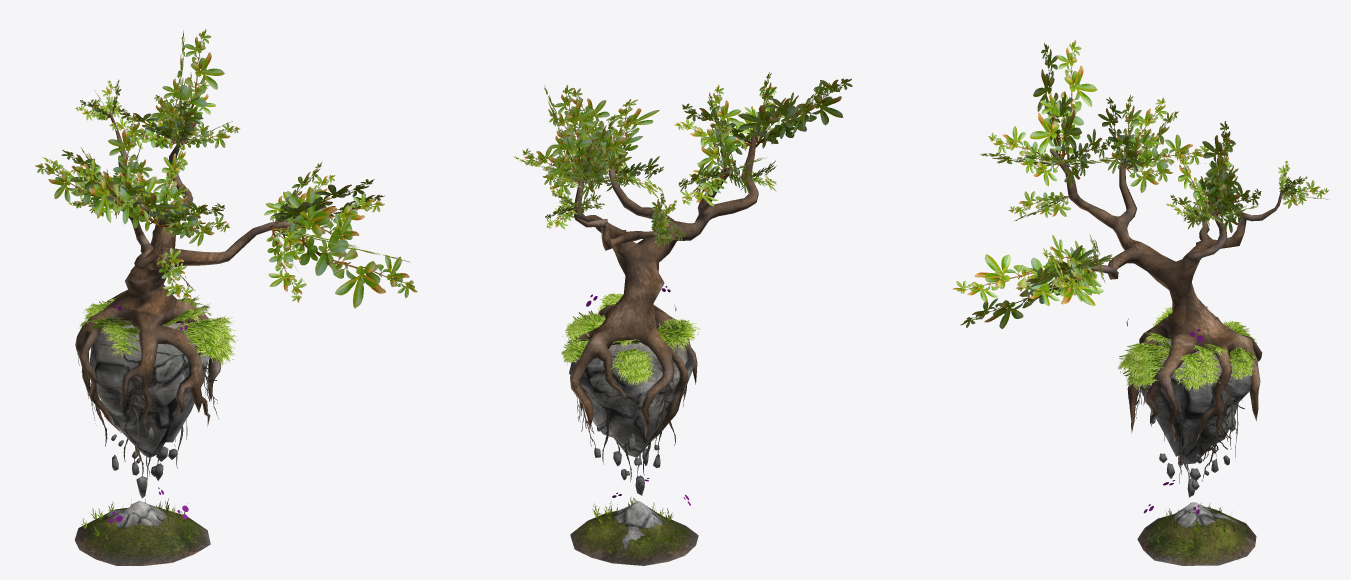
3 renders of one model, left to right at view 1: azimuth 30°, elevation 25°; view 2: azimuth 150°, elevation 25°; view 3: azimuth 270°, elevation 25°, orthographic. The views are drawn at different scales.
Visible parts, largest first — view 1: Object015, Plane001; view 2: Plane001, Object015; view 3: Object015, Plane001.
Part boxes in pixels (<box>): Object015: <box>35,29,417,545</box>; Plane001: <box>74,109,290,565</box>; Plane001: <box>569,122,758,565</box>; Object015: <box>513,72,852,556</box>; Object015: <box>952,39,1329,560</box>; Plane001: <box>1050,148,1283,565</box>.
Bounding box in the file's own units: 106 × 134 × 104.
